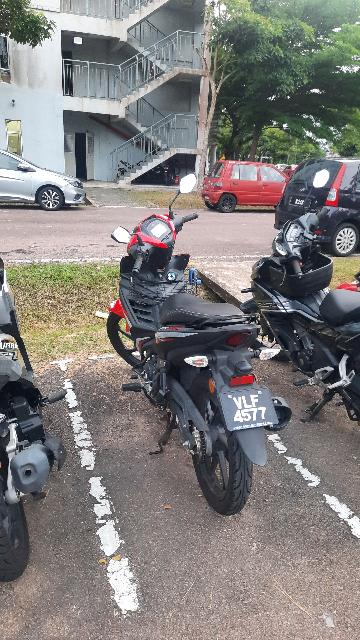License_Plate: (217, 386, 284, 435)
car: (269, 155, 360, 246), (2, 128, 93, 211), (204, 161, 298, 215)
motorcycle: (105, 161, 279, 517), (2, 235, 83, 590), (238, 204, 360, 426)
